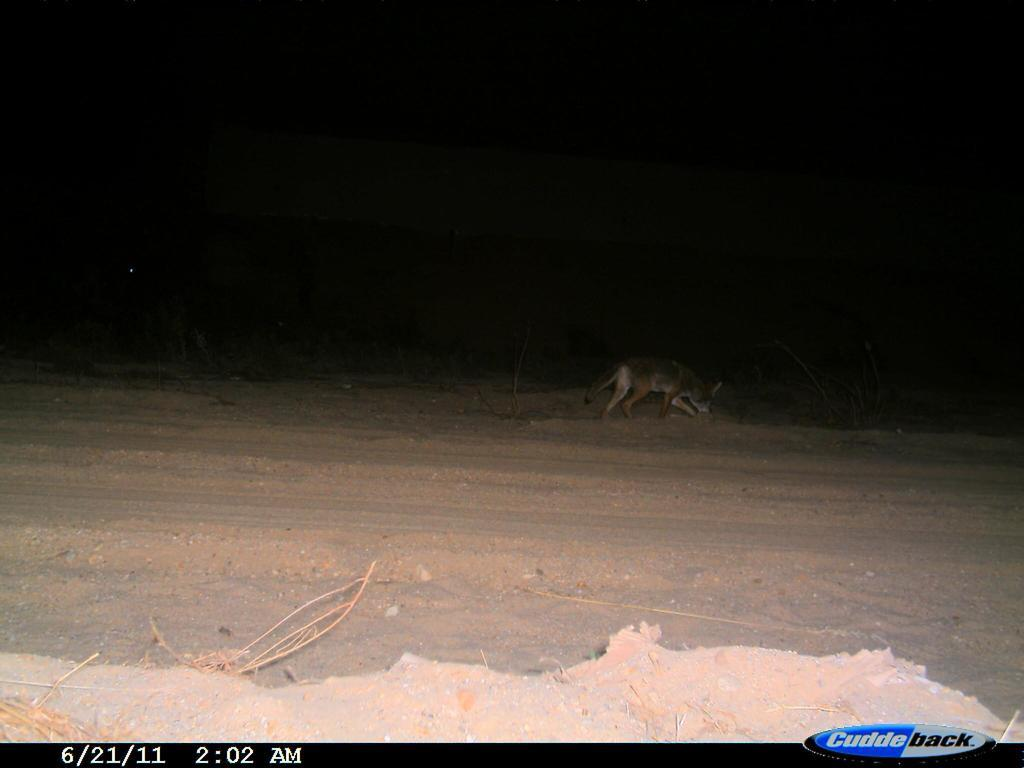coyote: (565, 328, 730, 434)
